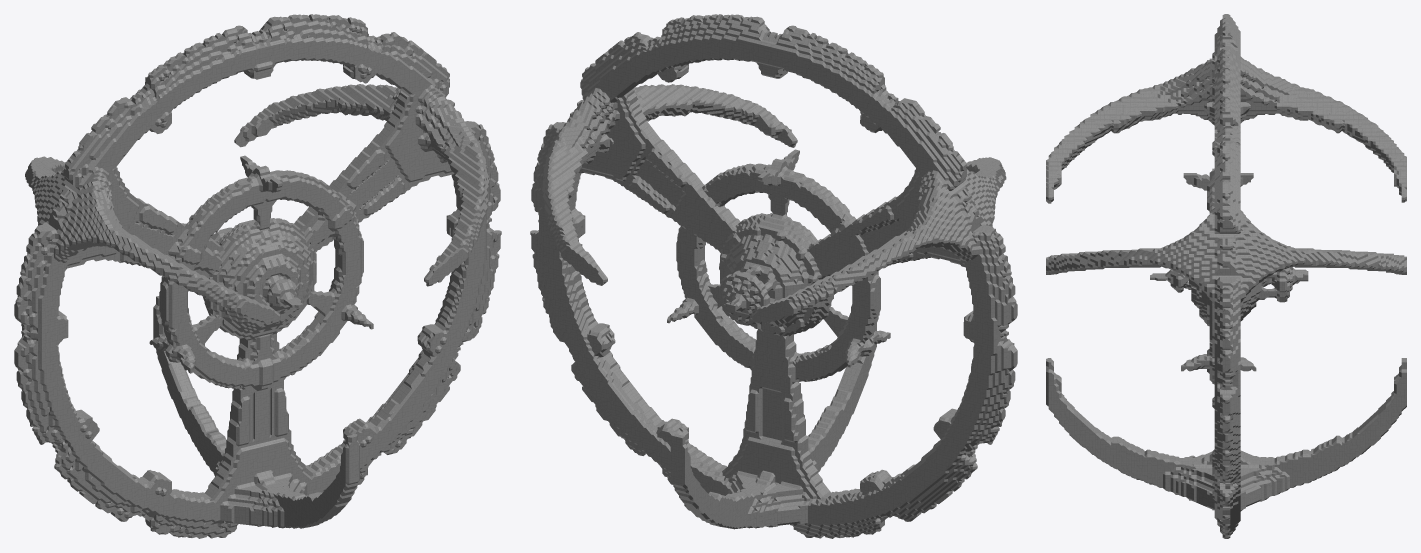
Rendered from deep-space-nine.glb.
The picture shows the model from 3 angles, left to right: view 1: azimuth 30°, elevation 25°; view 2: azimuth 150°, elevation 25°; view 3: azimuth 270°, elevation 25°; orthographic projection. The views are drawn at different scales.
Visible parts, largest first — view 1: Object_7, Object_2, Object_5; view 2: Object_7, Object_2, Object_5; view 3: Object_5, Object_7, Object_2.
Part boxes in pixels (<box>): Object_7: <box>14,14,501,538</box>; Object_2: <box>14,14,501,538</box>; Object_5: <box>14,15,501,537</box>; Object_7: <box>530,14,1017,538</box>; Object_2: <box>530,14,1017,538</box>; Object_5: <box>530,15,1017,537</box>; Object_5: <box>1046,17,1406,538</box>; Object_7: <box>1046,14,1406,537</box>; Object_2: <box>1046,14,1406,538</box>.
Size of the model in its own units: 502 by 500 by 348.
3 materials, 3 textured.
